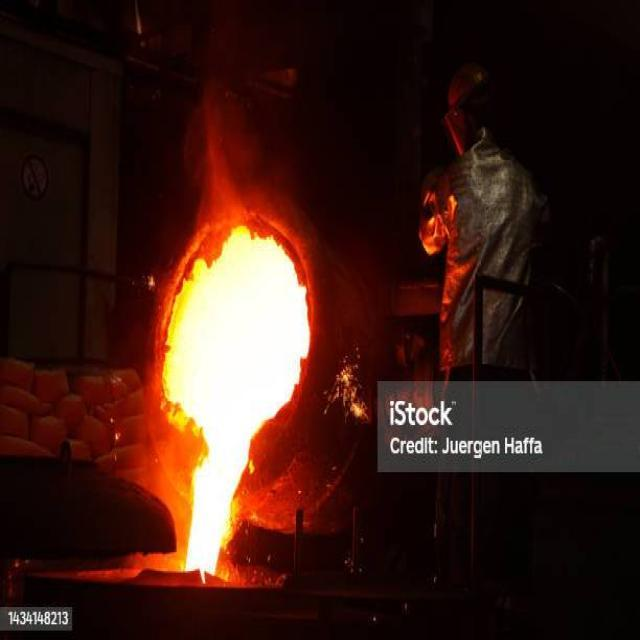Fire: (139, 210, 315, 585)
